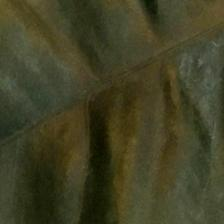healthy: (4, 5, 224, 224)
